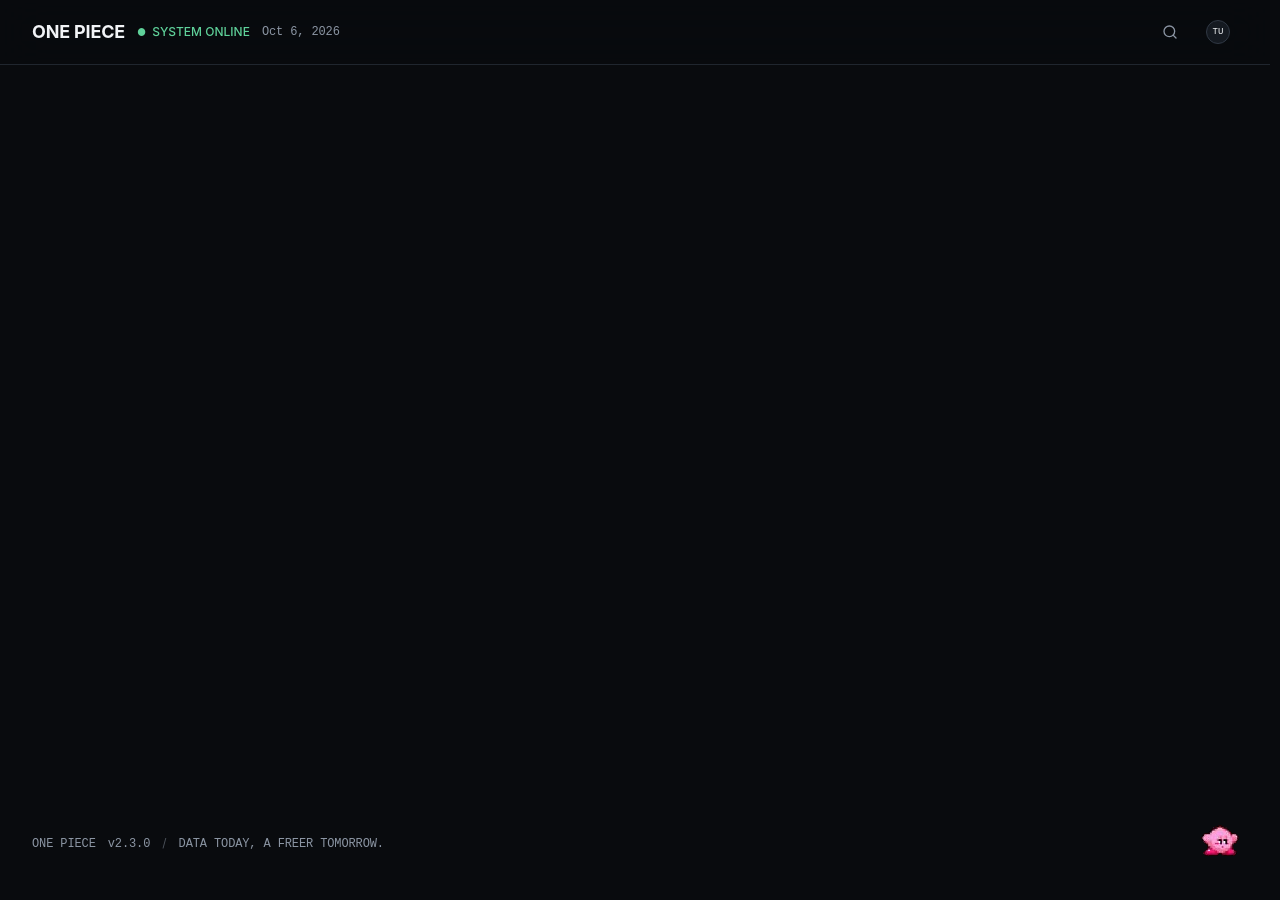
Layout pixel pet and navigator › opens the navigator as a floating panel listing the eight navigator destinations
Click the button named "pixel pet": [1220, 840] box [1192,812,1248,868]
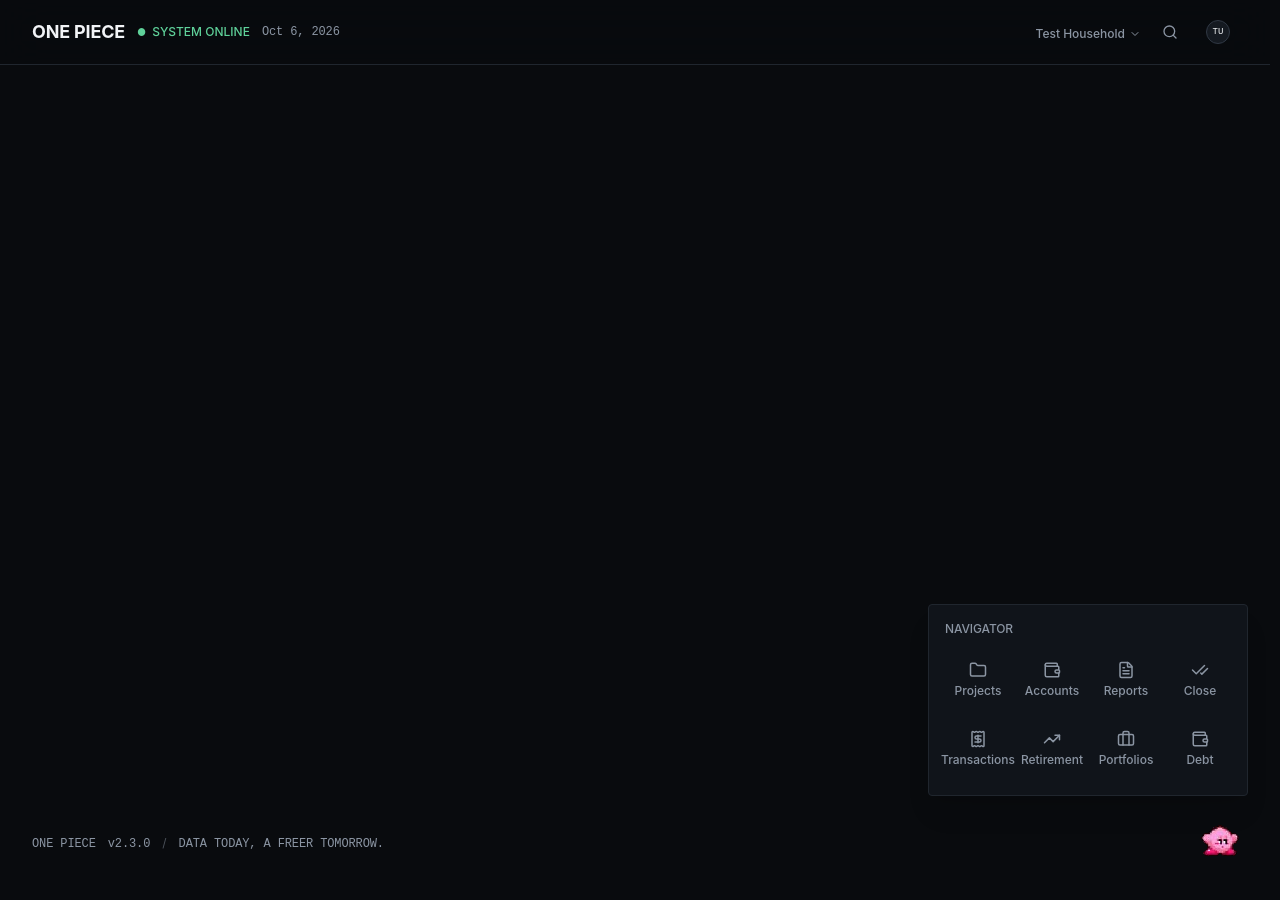
Expected: the dialog with test id "navigator" is shown, [928,604,1248,796]
